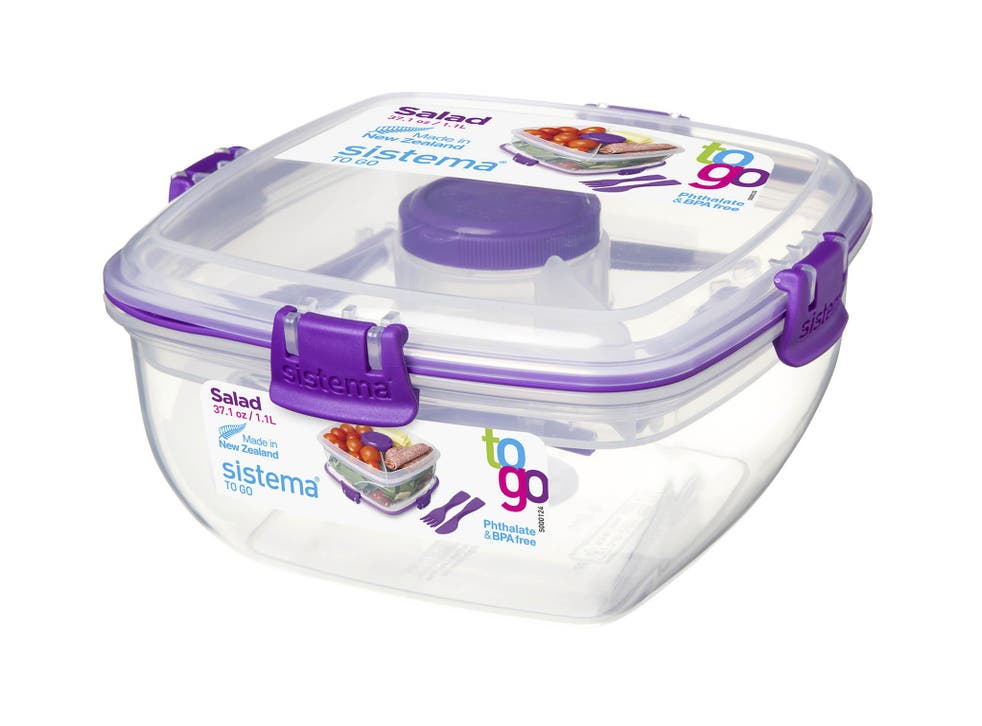PlasticBox: (91, 83, 876, 628)
